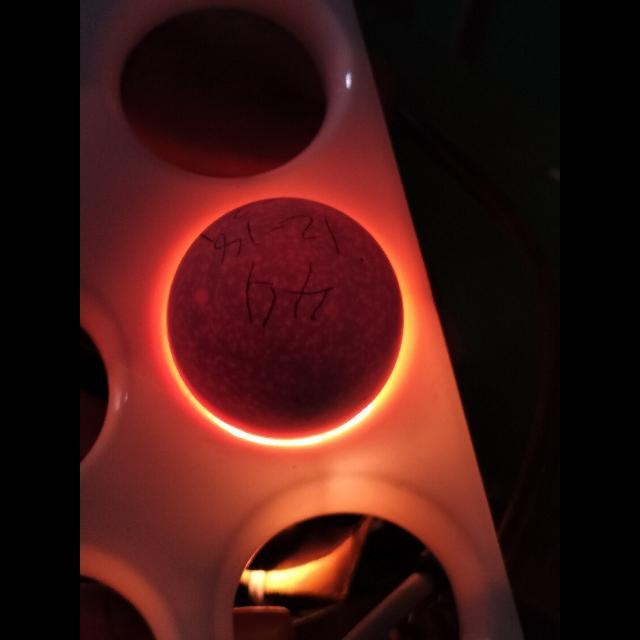Fertile: (164, 198, 400, 438)
